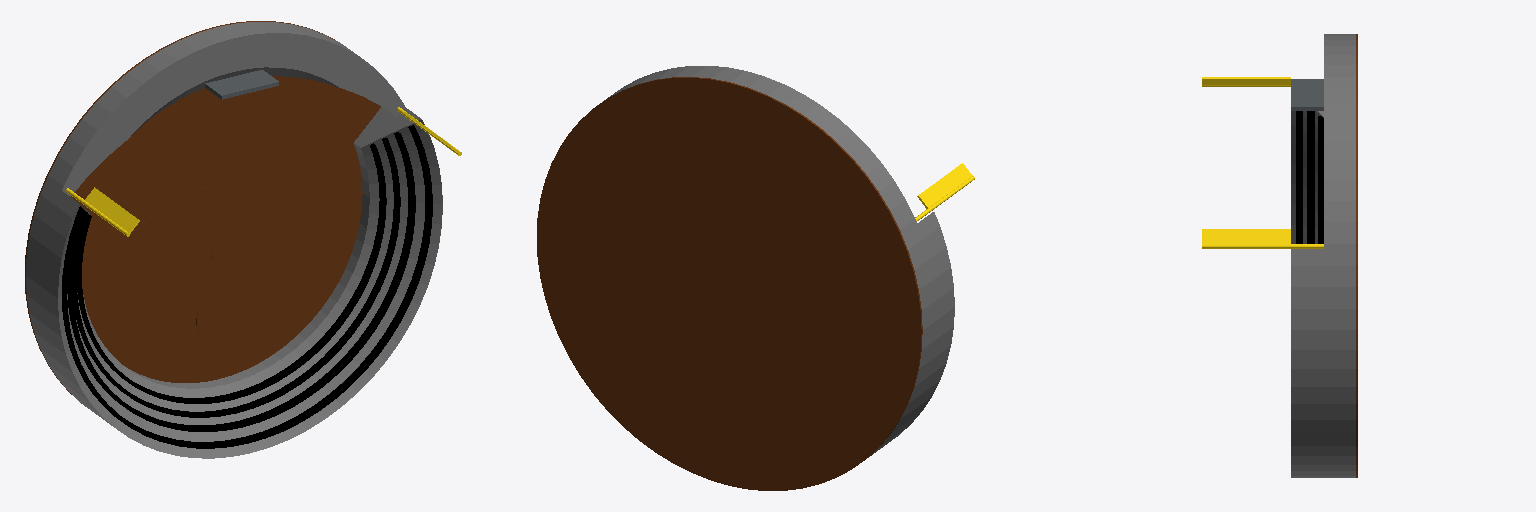
The model's file is Stadium.obj.
3 views of the same model, side by side, from view 1: azimuth 30°, elevation 25°; view 2: azimuth 150°, elevation 25°; view 3: azimuth 270°, elevation 25° (orthographic).
Parts seen in each view (by area): view 1: obj_0; view 2: obj_0; view 3: obj_0.
Part boxes in pixels (x1,y1,x2,y2): obj_0: (25, 21, 461, 458); obj_0: (537, 66, 974, 490); obj_0: (1202, 34, 1357, 477).
Size of the model in its own units: 200 by 200 by 70.